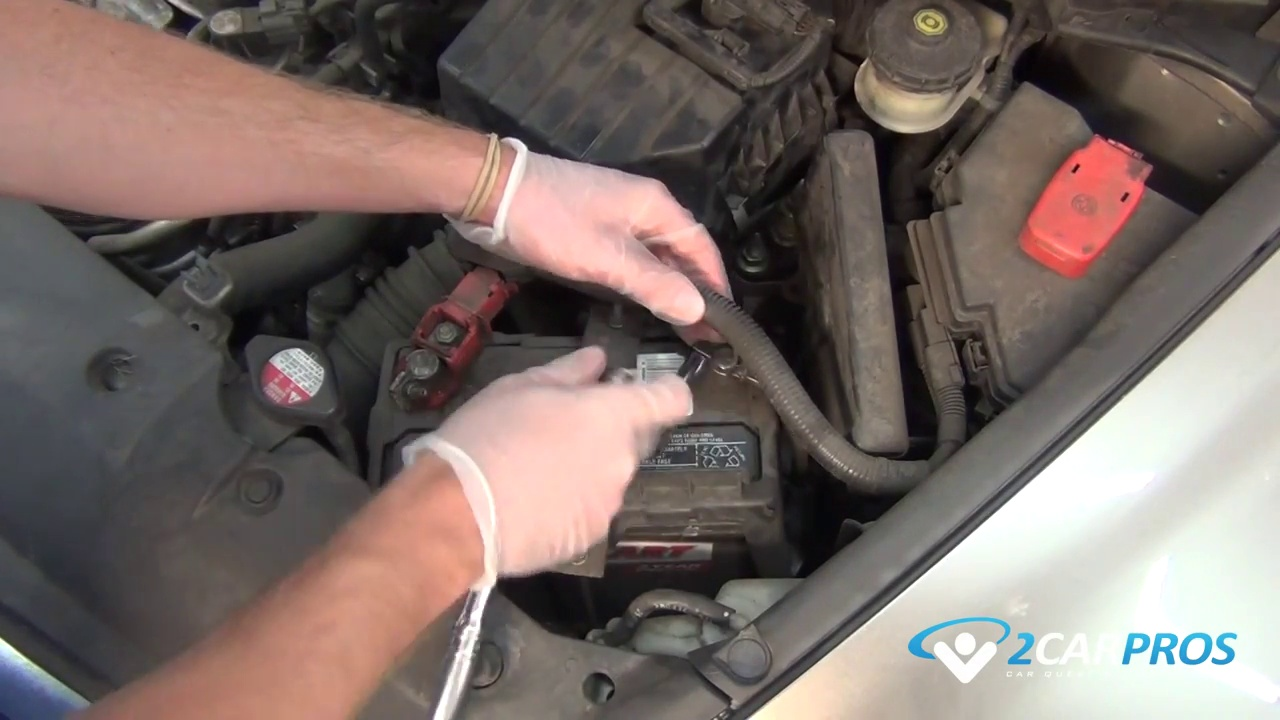battery: (378, 298, 789, 537)
neg_touched: (628, 254, 775, 470)
pos_connected: (375, 264, 495, 419)
